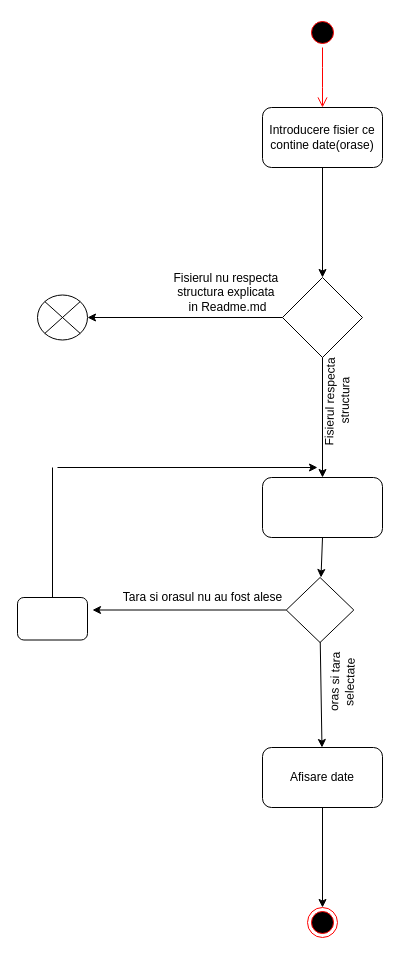
Image size: 400x955. Some labels were removed from this diagram. Each missing label, with the centre of its shape:
Afisare mesaj de eroare: [52,618]
Alegere tara,oras si apasarea butonului "Selecteaza": [322,507]
